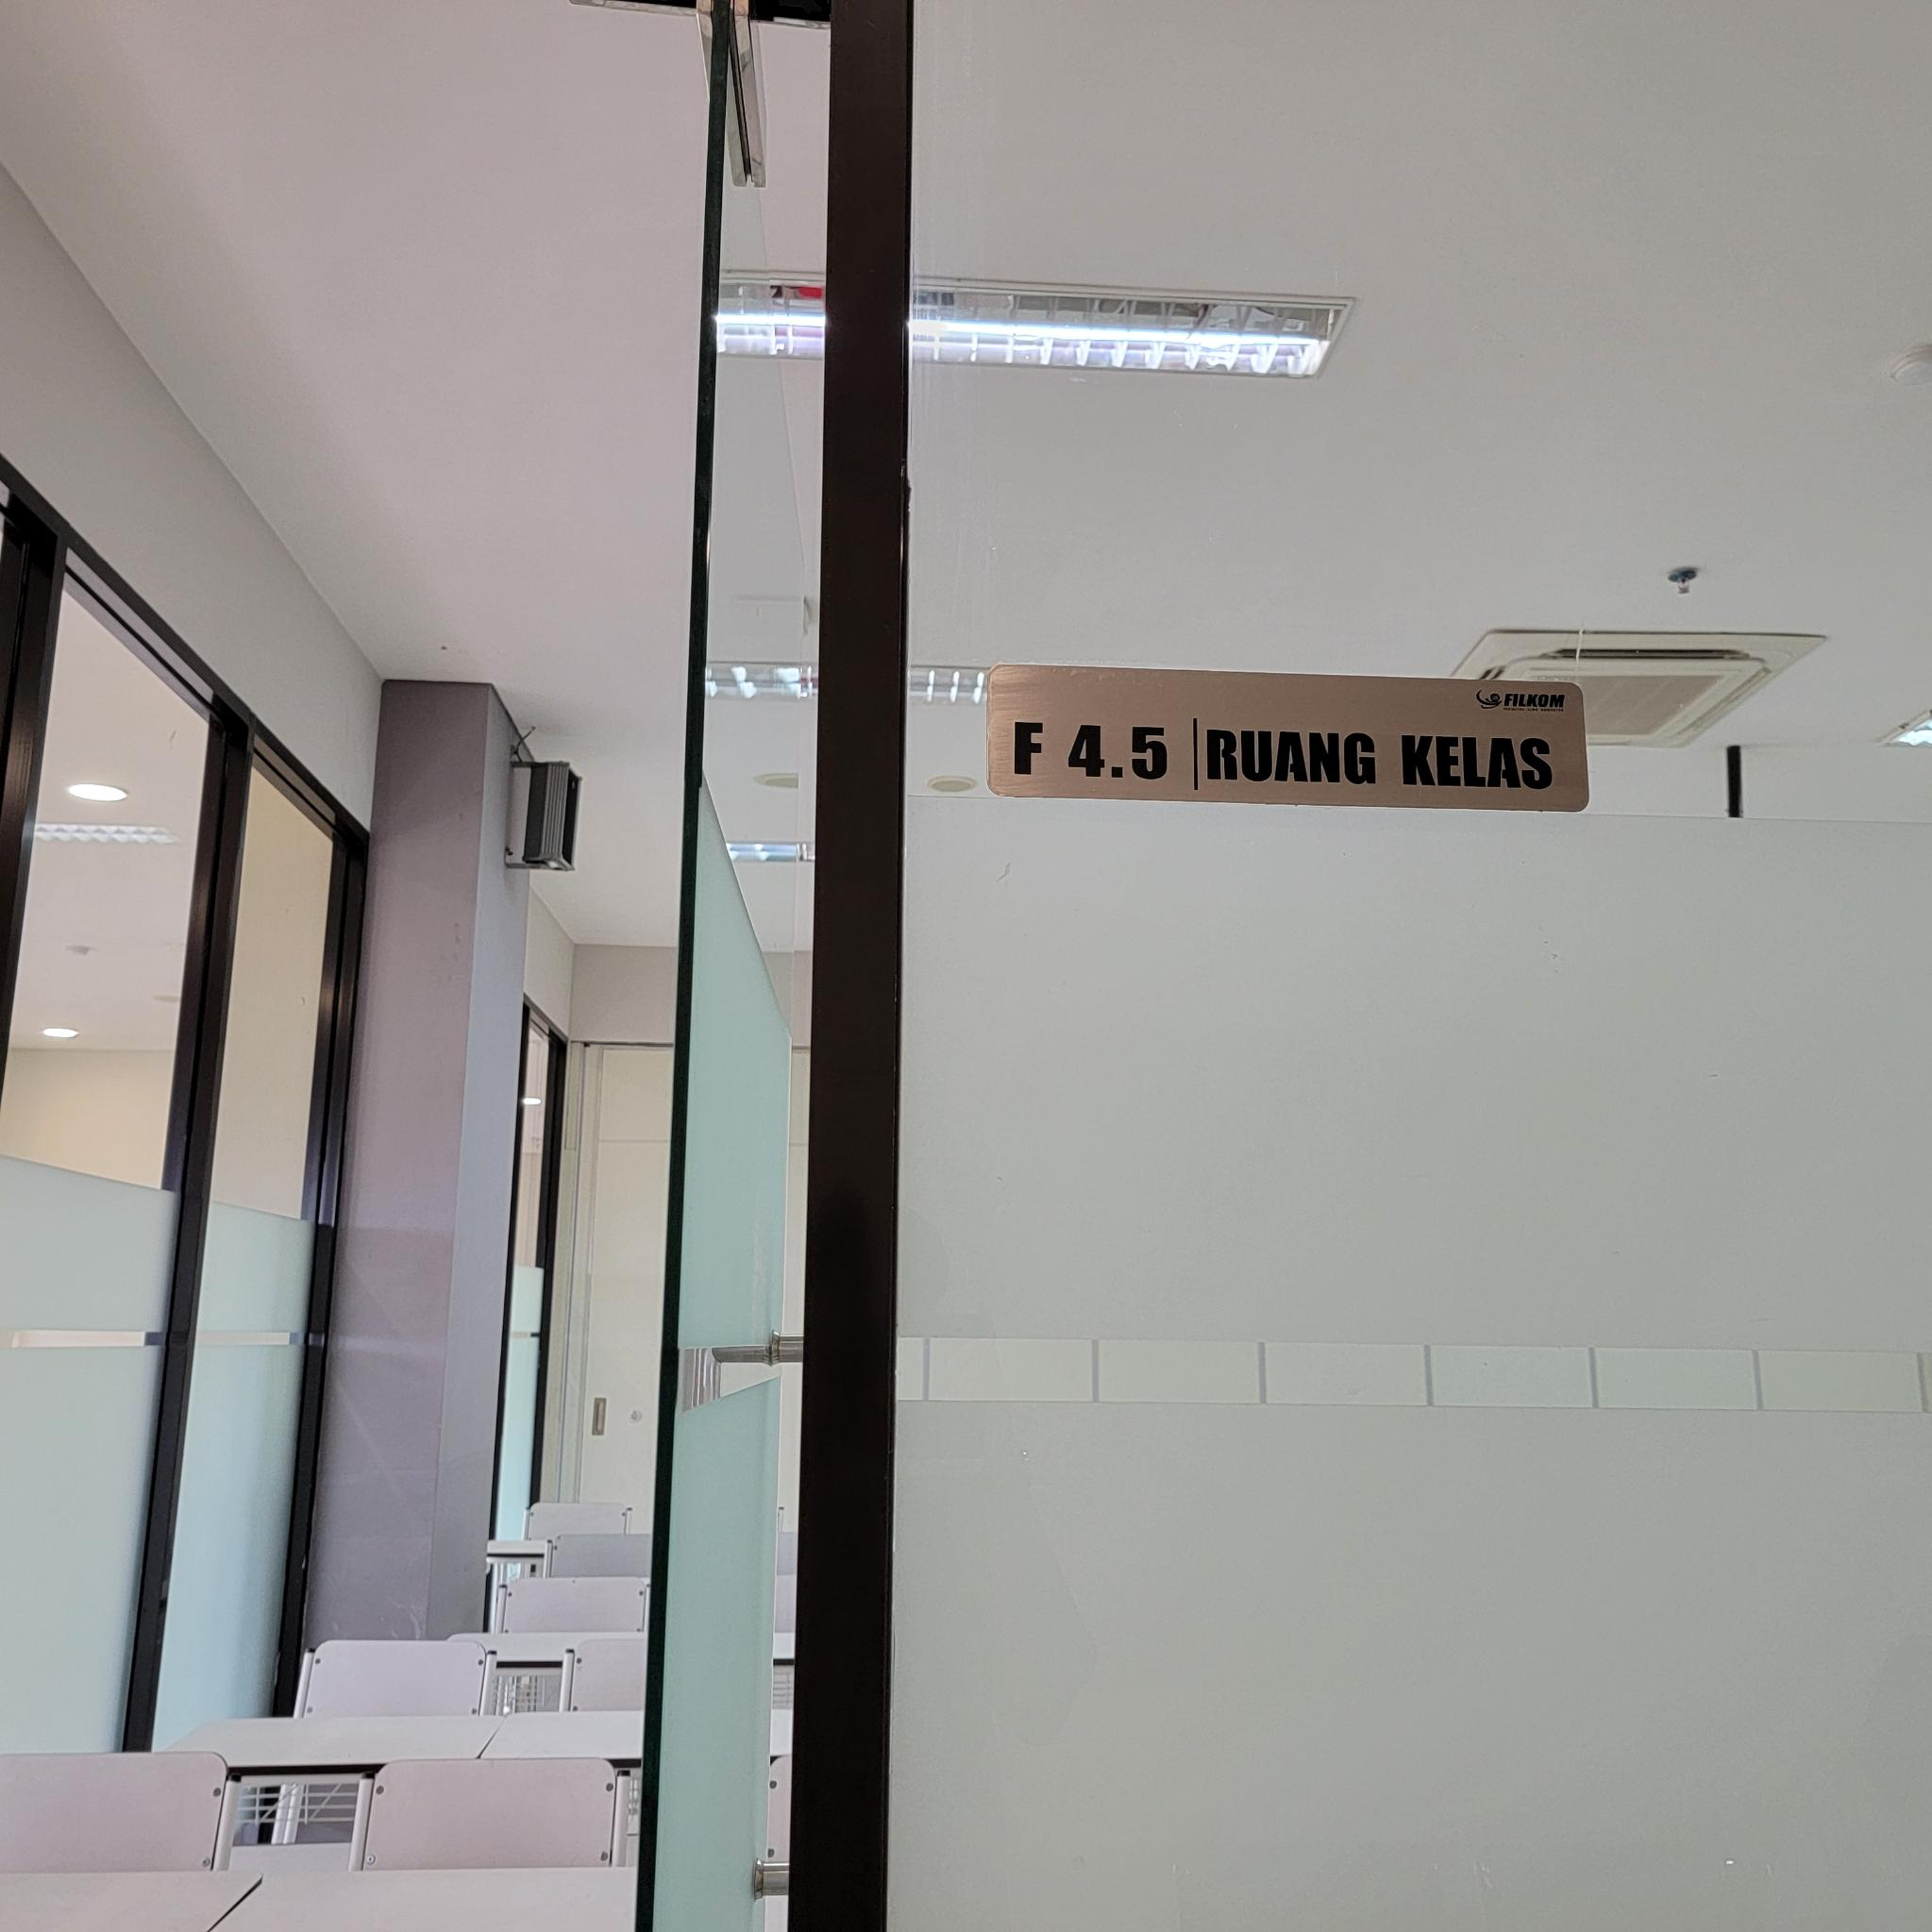plate: (987, 665, 1591, 816)
